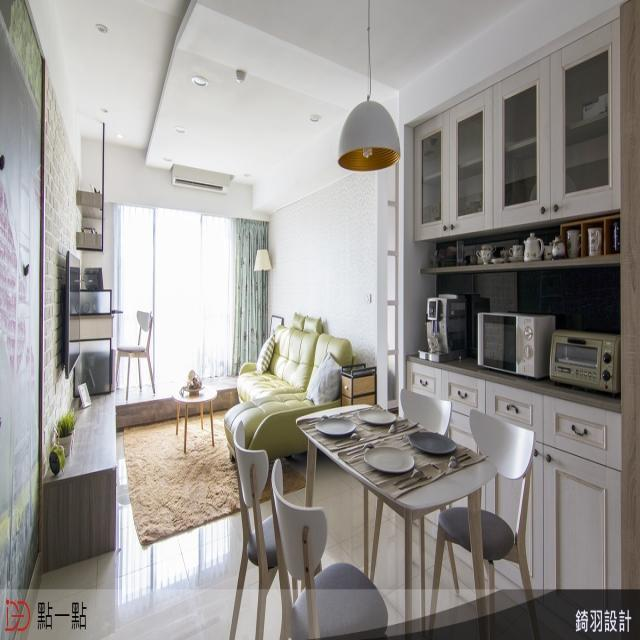table: (224, 382, 537, 640)
